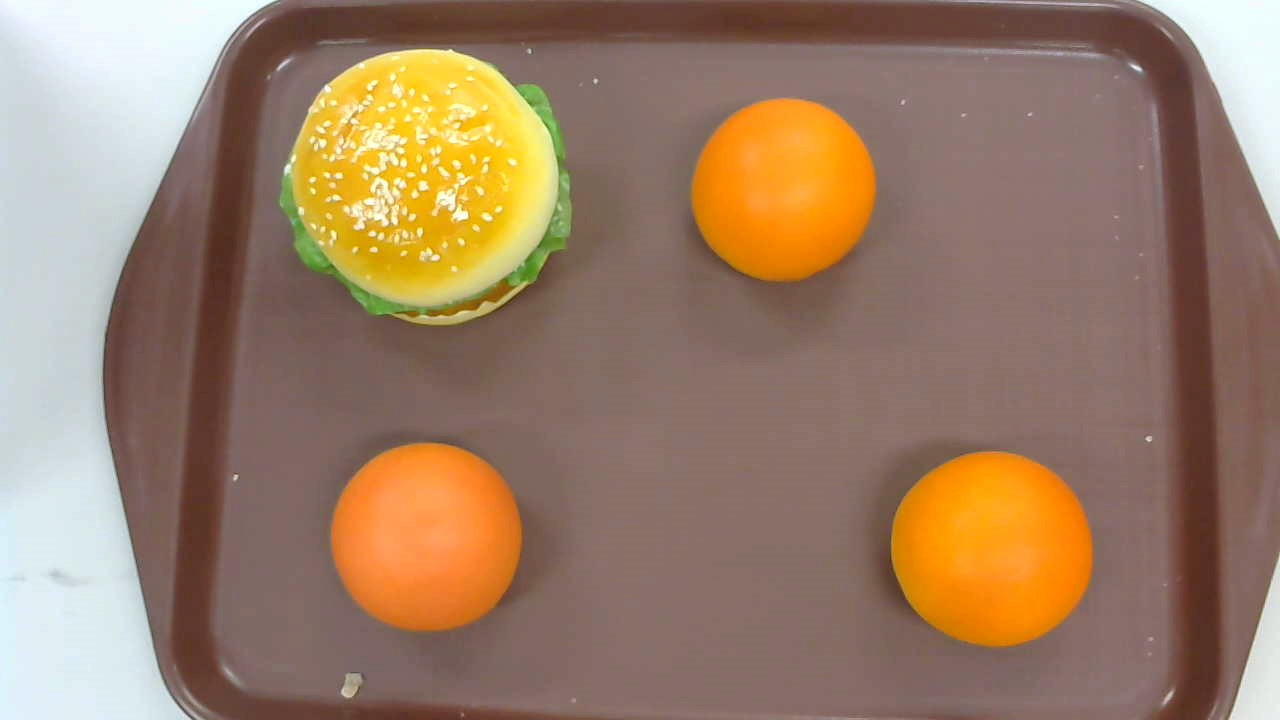bun: (891, 450, 1093, 648), (330, 441, 522, 630), (691, 97, 876, 282)
hamburger: (278, 47, 573, 328)
